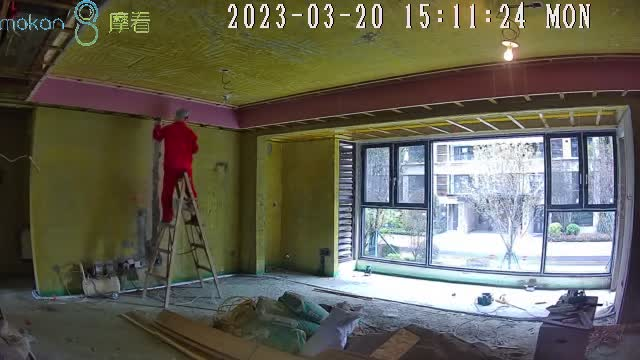people: (153, 107, 198, 223)
window: (359, 136, 616, 278)
